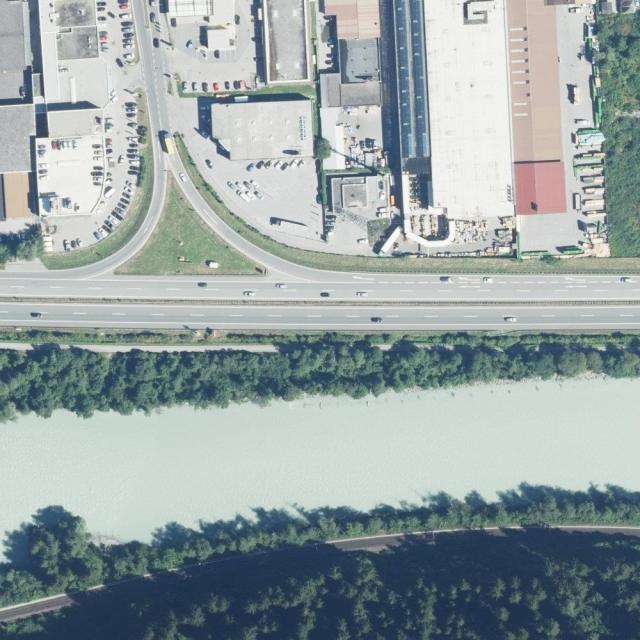greenland: (98, 180, 263, 344), (38, 143, 186, 296), (598, 13, 640, 256), (0, 327, 281, 352)
metalled_road: (25, 134, 204, 319), (153, 127, 209, 219), (239, 233, 299, 292), (0, 591, 75, 625), (334, 532, 404, 557), (213, 221, 252, 256), (198, 204, 228, 236), (255, 257, 274, 275)
